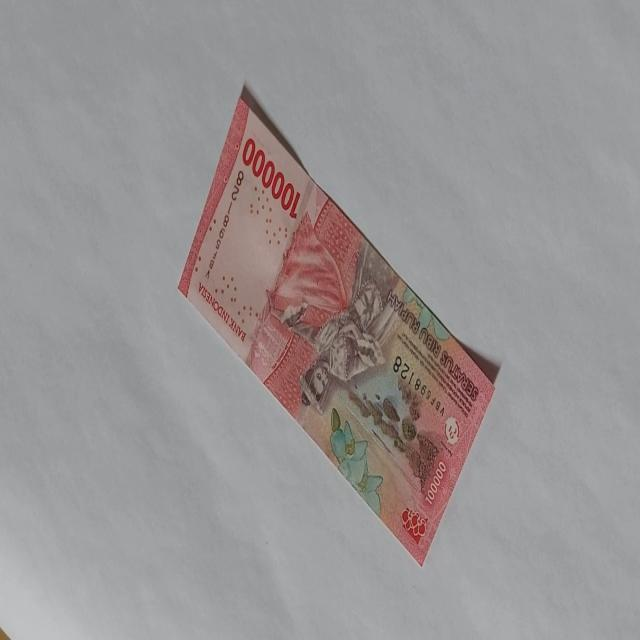seratus ribu rupiah: (177, 89, 496, 567)
